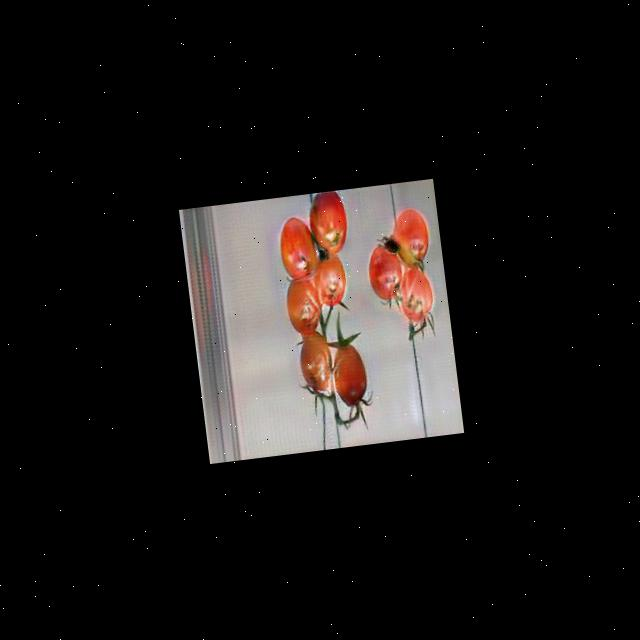tomato: (300, 187, 357, 256), (327, 340, 370, 404), (274, 216, 316, 281), (388, 202, 431, 264), (308, 252, 352, 308), (282, 278, 323, 334), (396, 266, 434, 322), (364, 246, 402, 300)
